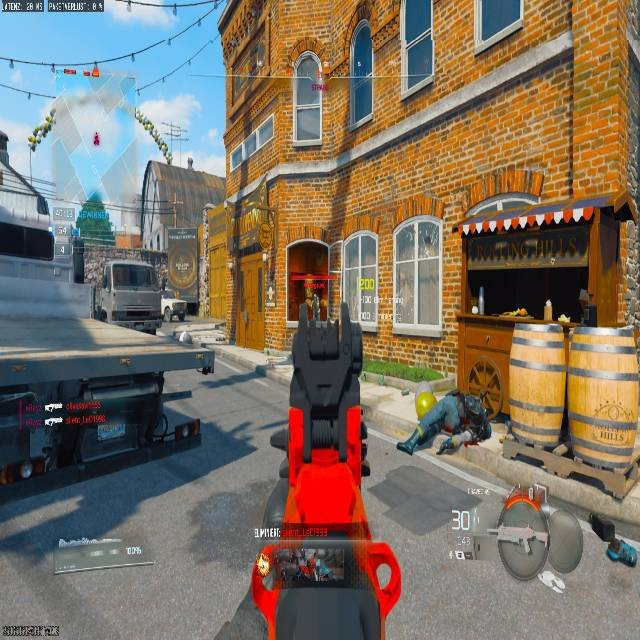player: (301, 288, 324, 327), (194, 340, 214, 374)
